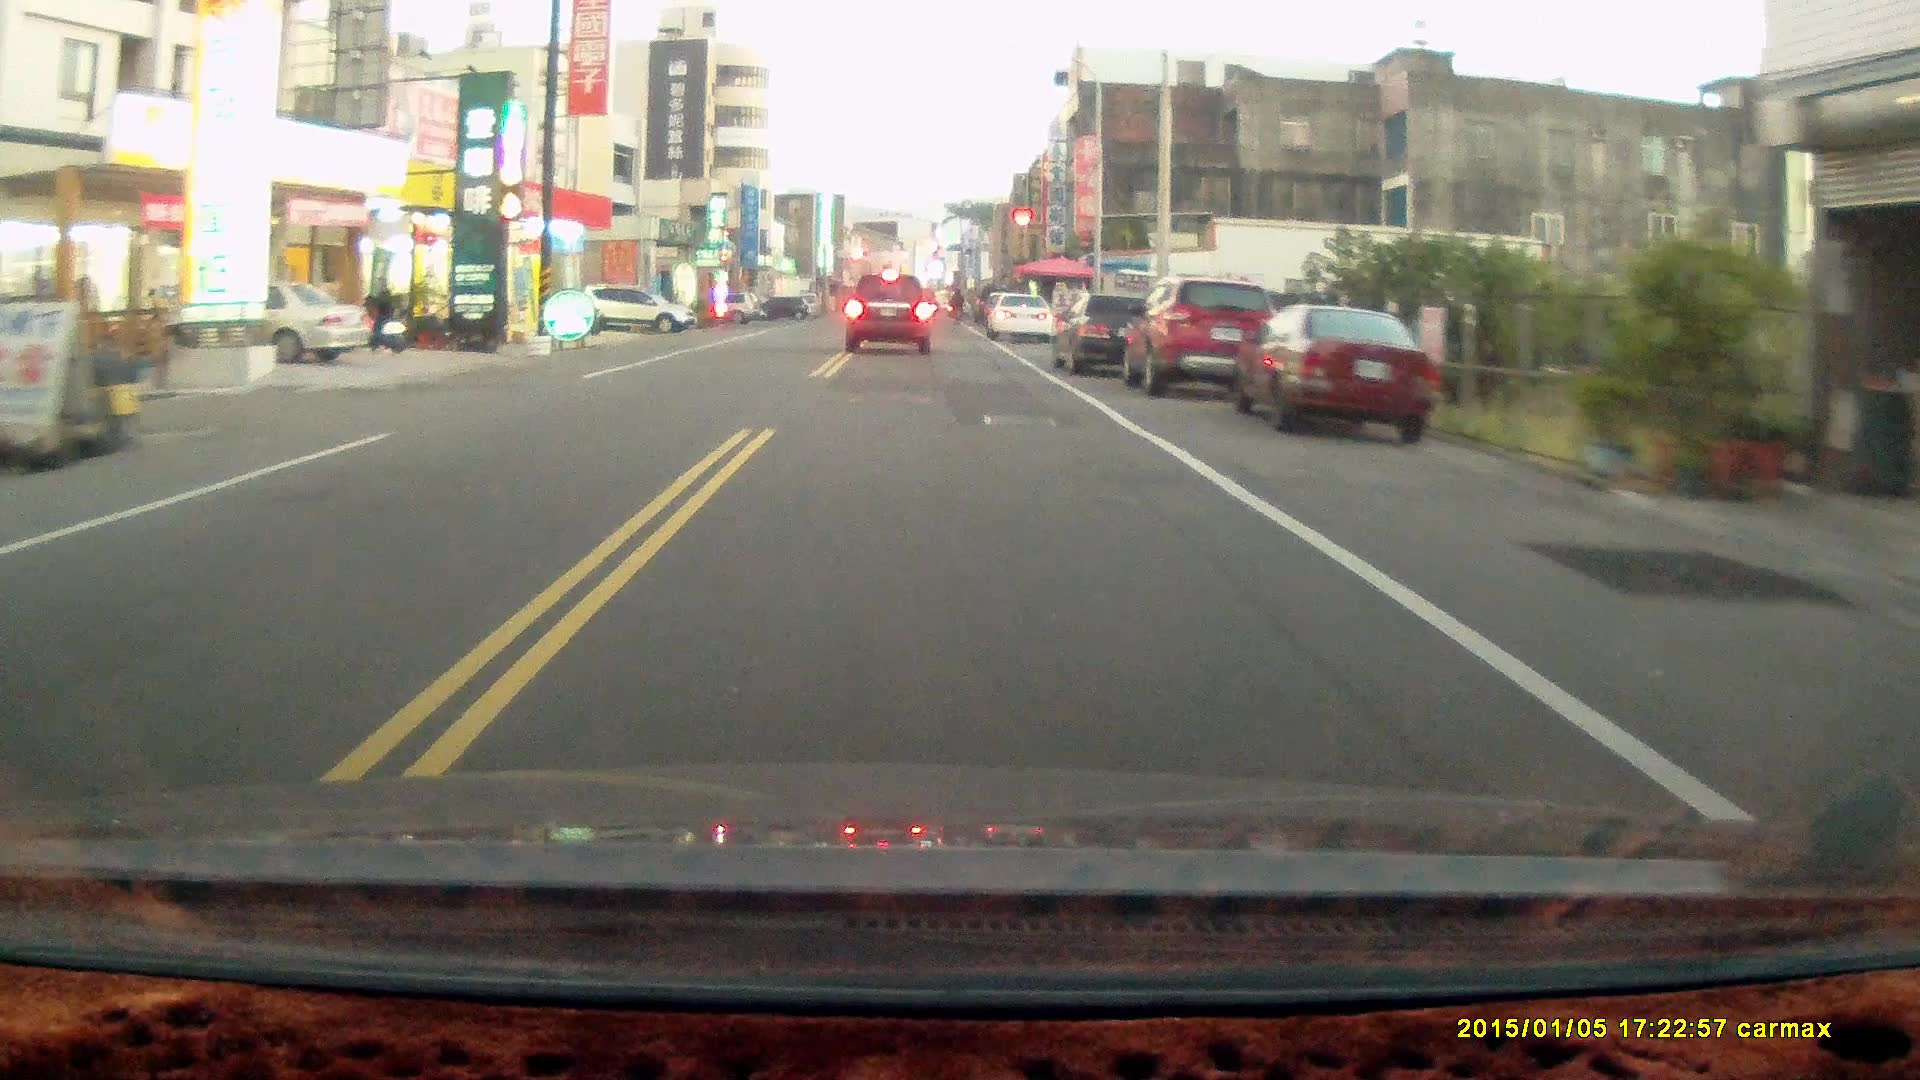vehicle: (1230, 301, 1445, 439), (1125, 276, 1286, 396), (164, 281, 372, 367), (1052, 294, 1175, 375), (844, 272, 936, 356), (582, 284, 694, 332), (986, 291, 1058, 345)
